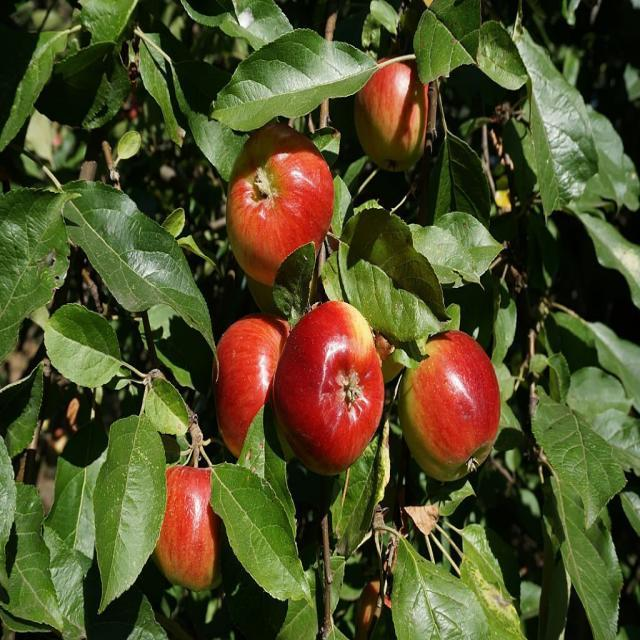Red Apple: (289, 306, 382, 462), (232, 136, 327, 265), (412, 329, 494, 469), (218, 316, 296, 436), (163, 460, 240, 578), (367, 53, 428, 156)
